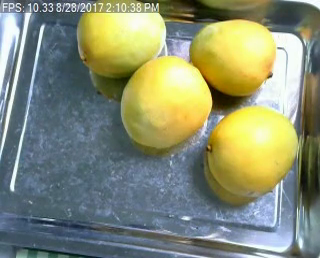Mango: (209, 103, 299, 198), (121, 55, 213, 147), (75, 1, 167, 79), (193, 20, 278, 92)
